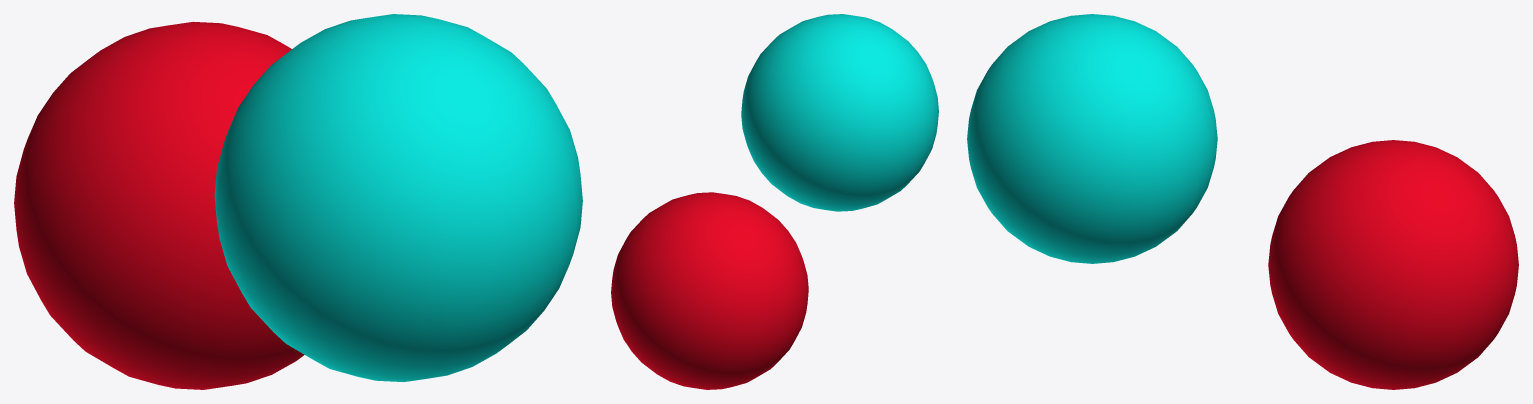
3 views of the same model, side by side, from view 1: azimuth 30°, elevation 25°; view 2: azimuth 150°, elevation 25°; view 3: azimuth 270°, elevation 25° (orthographic). The views are drawn at different scales.
Visible parts, largest first — view 1: Roundcube.001, Roundcube; view 2: Roundcube, Roundcube.001; view 3: Roundcube, Roundcube.001.
Boxes of the visible parts, <box> form: Roundcube.001: <box>214,14,582,382</box>; Roundcube: <box>14,21,304,389</box>; Roundcube: <box>611,192,808,389</box>; Roundcube.001: <box>741,14,938,211</box>; Roundcube: <box>1268,140,1518,389</box>; Roundcube.001: <box>967,14,1217,263</box>.
Bounding box in the file's own units: 2.13 × 4.4 × 3.05.
